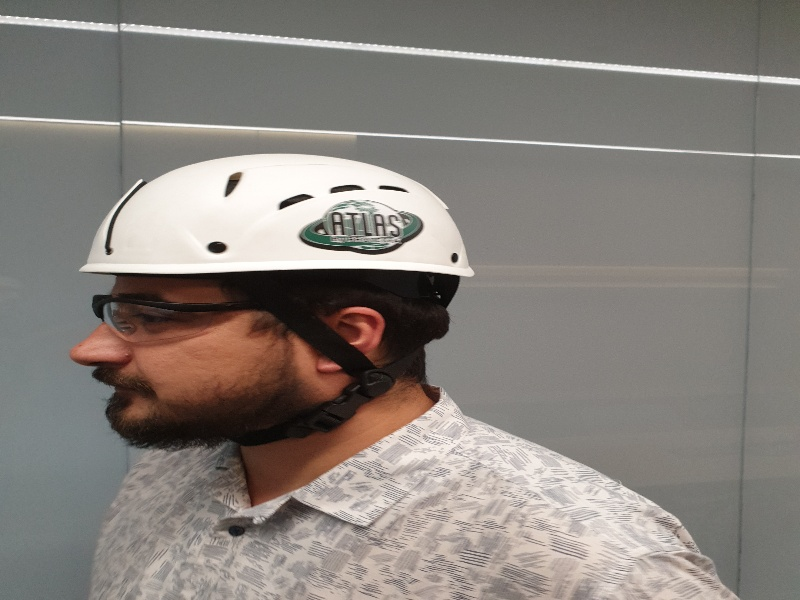Baret: (82, 153, 476, 280)
Gozluk: (90, 293, 299, 336)
